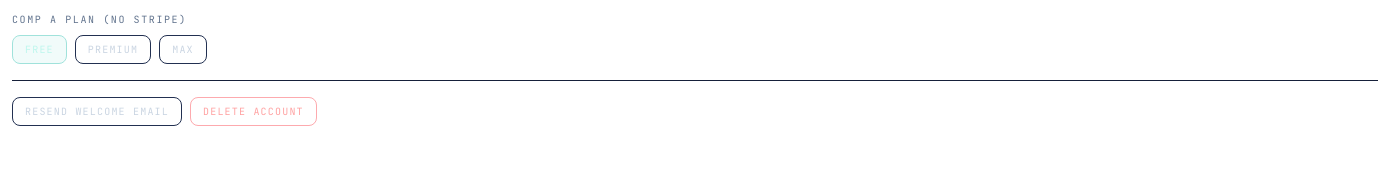
UserActions plan controls › comps a plan and refreshes
Click the button "premium" at (113, 50), box [75,35,151,64]
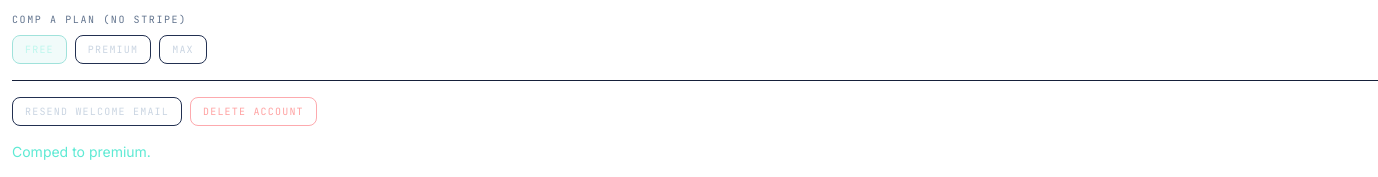
Expected: the text "Comped to premium." is shown, [12,143,151,160]
